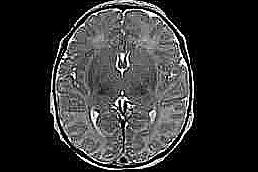Normal_Brain: (1, 1, 258, 172)
